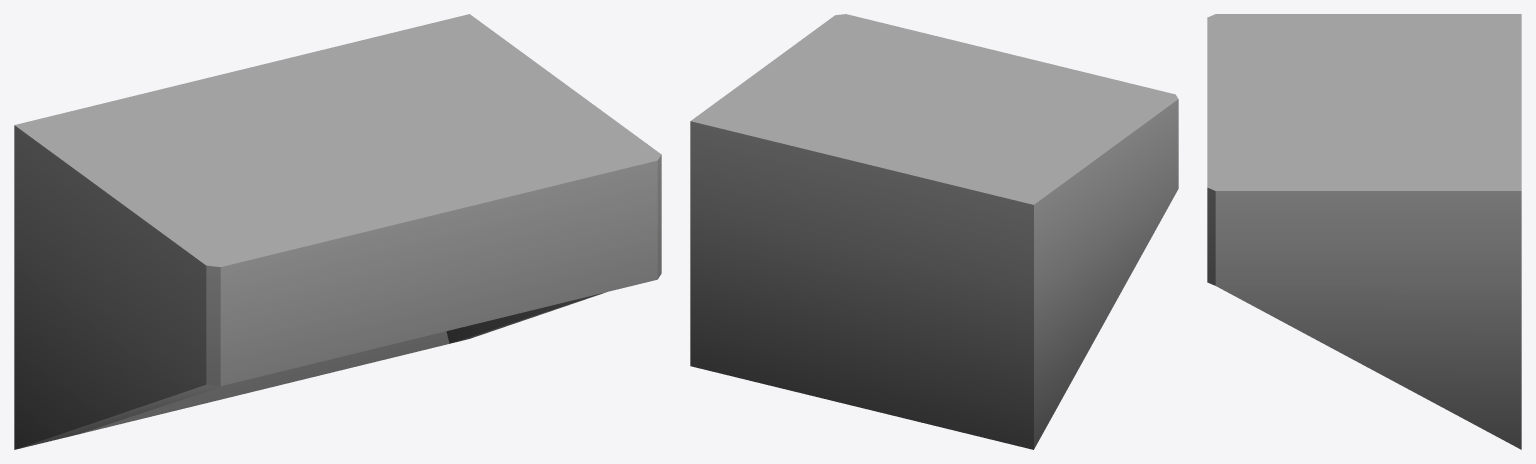
File: Kitchen_Exhaust_01.fbx
3 renders of one model, left to right at view 1: azimuth 30°, elevation 25°; view 2: azimuth 150°, elevation 25°; view 3: azimuth 270°, elevation 25°, orthographic. The views are drawn at different scales.
Parts seen in each view (by area): view 1: Kitchen_Exhaust_01; view 2: Kitchen_Exhaust_01; view 3: Kitchen_Exhaust_01.
Boxes of the visible parts, bbox=[...] form: Kitchen_Exhaust_01: bbox=[14, 14, 661, 449]; Kitchen_Exhaust_01: bbox=[690, 14, 1178, 449]; Kitchen_Exhaust_01: bbox=[1207, 14, 1521, 449].
Bounding box in the file's own units: 100 × 68.18 × 75.
